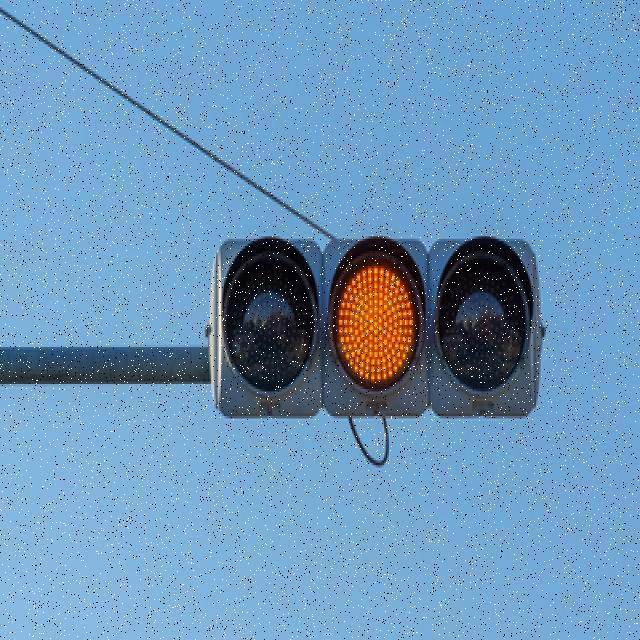yellow_light: (336, 218, 430, 399)
